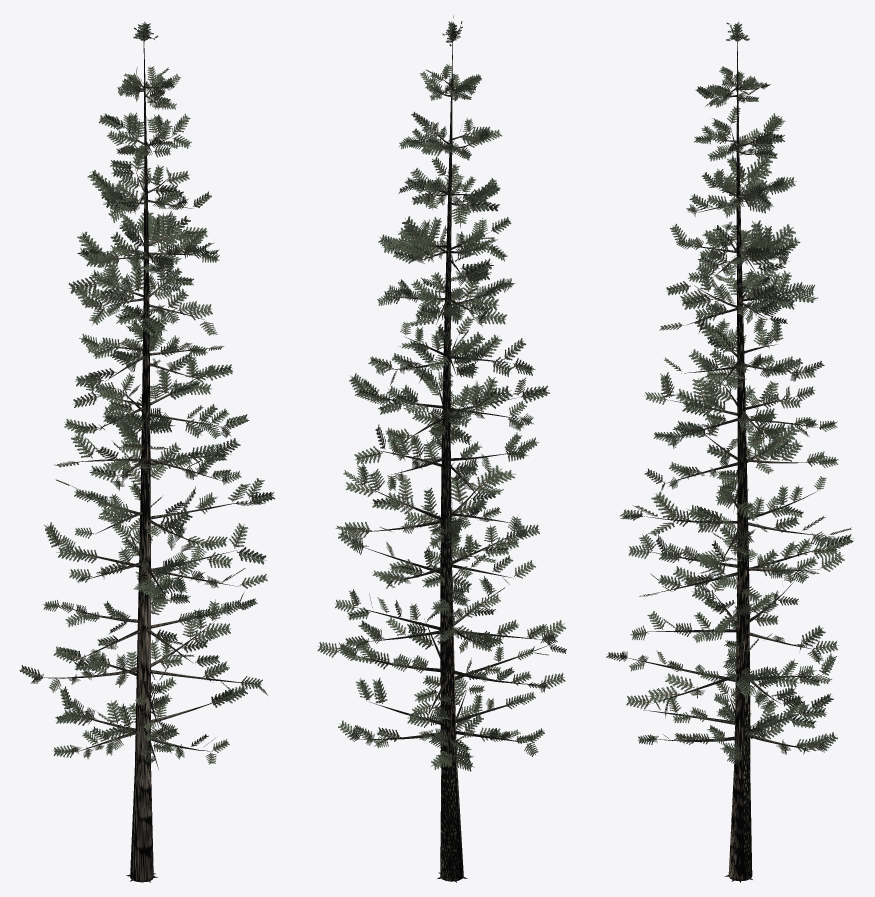
Rendered from Sitka_Young_02_Unpruned_LOD1.fbx.
The picture shows the model from 3 angles, left to right: view 1: azimuth 30°, elevation 25°; view 2: azimuth 150°, elevation 25°; view 3: azimuth 270°, elevation 25°; orthographic projection.
Parts seen in each view (by area): view 1: Sitka_Young_02_Unpruned_LOD1; view 2: Sitka_Young_02_Unpruned_LOD1; view 3: Sitka_Young_02_Unpruned_LOD1.
Boxes of the visible parts, x1,y1,x2,y2 form: Sitka_Young_02_Unpruned_LOD1: (19,21,274,882); Sitka_Young_02_Unpruned_LOD1: (317,15,566,882); Sitka_Young_02_Unpruned_LOD1: (606,22,853,882).
Bounding box in the file's own units: 303 × 1050 × 286.
Materials: 2 (2 with a texture image).
